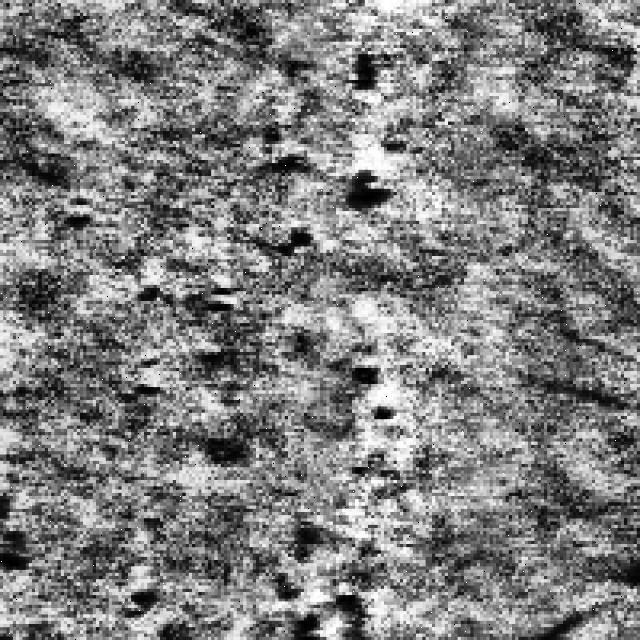Crazing: (74, 198, 252, 416), (256, 26, 397, 186)
